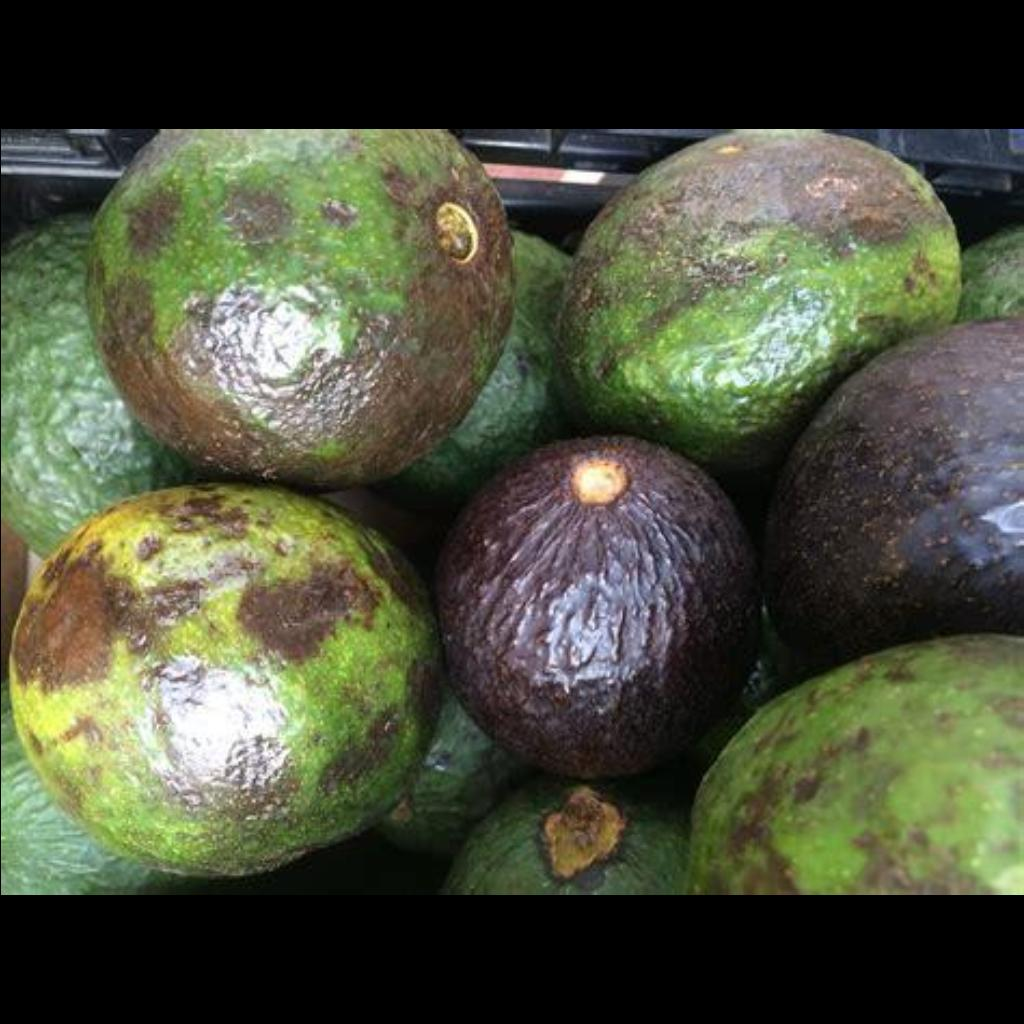Anthracnose: (555, 142, 1019, 894), (5, 472, 433, 890), (71, 131, 527, 459)
